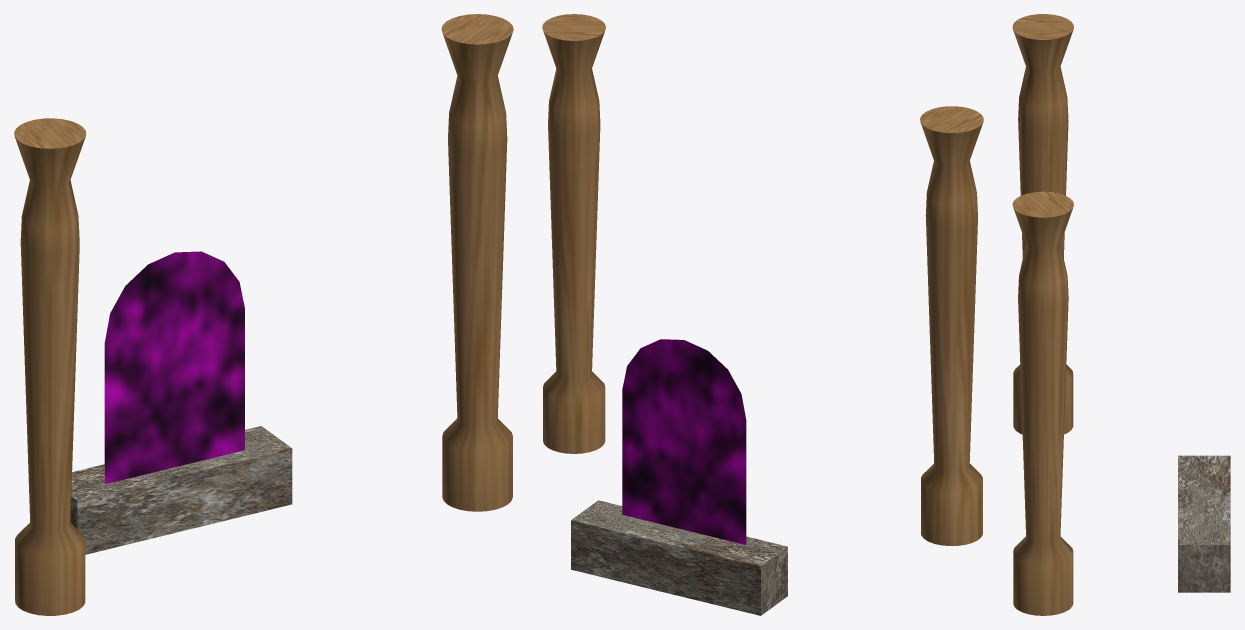
Rendered from map1_portal.obj.
3 views of the same model, side by side, from view 1: azimuth 30°, elevation 25°; view 2: azimuth 150°, elevation 25°; view 3: azimuth 270°, elevation 25° (orthographic). The views are drawn at different scales.
Visible parts, largest first — view 1: pPlane1, pCylinder3, pCylinder4, pCube1; view 2: pPlane1, pCylinder3, pCylinder4, pCube1; view 3: pCylinder3, pCylinder4, pCube1.
Part boxes in pixels (x1,y1,x2,y2): pPlane1: [104, 251, 244, 484]; pCylinder3: [441, 14, 513, 511]; pCylinder4: [14, 118, 86, 615]; pCube1: [70, 426, 292, 554]; pPlane1: [622, 339, 746, 544]; pCylinder3: [542, 14, 605, 453]; pCylinder4: [920, 106, 983, 545]; pCube1: [571, 500, 787, 615]; pCylinder3: [1012, 191, 1073, 615]; pCylinder4: [1012, 14, 1073, 434]; pCube1: [1178, 455, 1230, 592].
Bounding box in the file's own units: 9.17 × 9.07 × 4.15.
3 materials, 3 textured.
